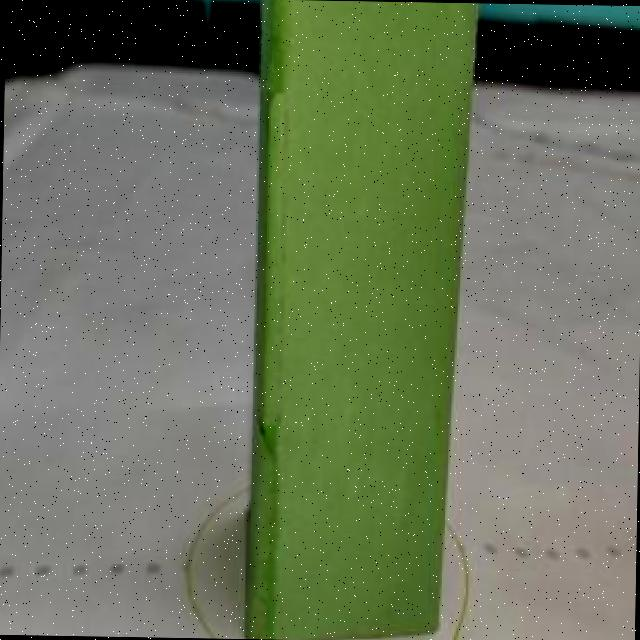greenbox: (248, 0, 477, 640)
